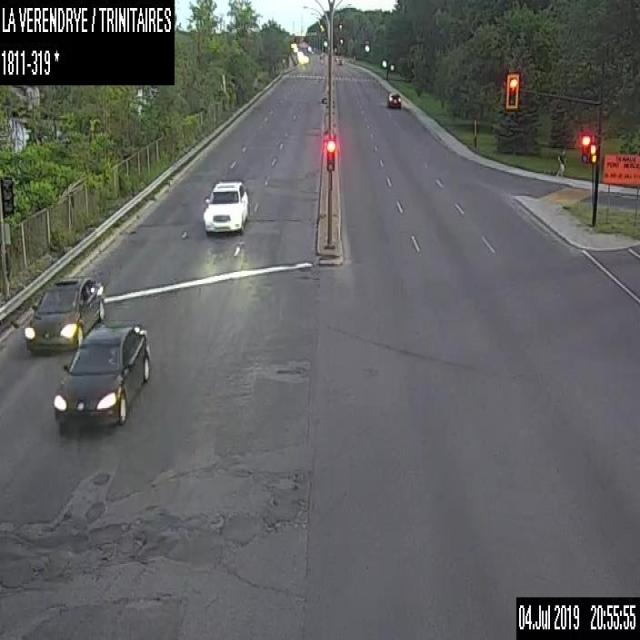pedestrian: (554, 148, 566, 179)
vehicle: (53, 323, 150, 429), (25, 273, 104, 354), (201, 177, 248, 232), (385, 90, 400, 110), (336, 58, 342, 64)
